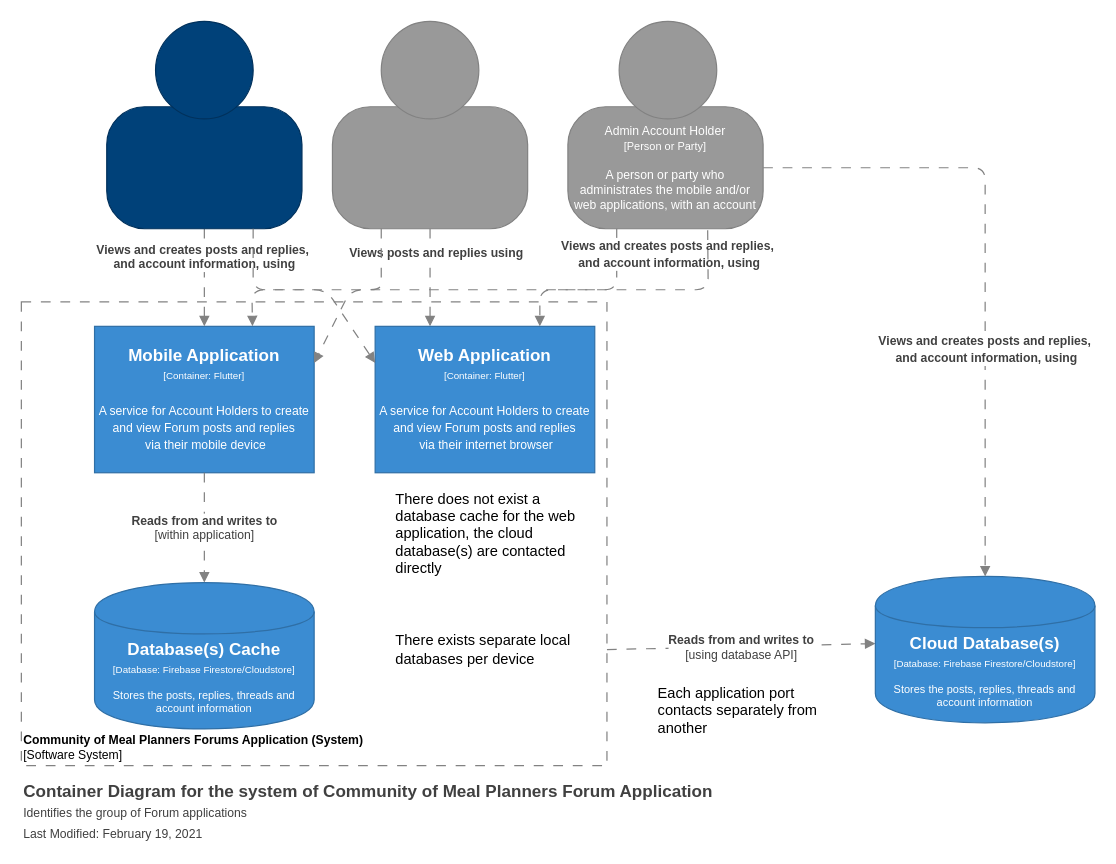
Some shapes in this 1116 by 864 pixel diagram are drawn without their labels. The centre of each missing label's shape, as x and y in pixels:
"Account Holder [Person] A member of the community, with an account" belongs at pixel 204 167.
"Passerby [Person or Party] A person or party without an account" belongs at pixel 429 167.
